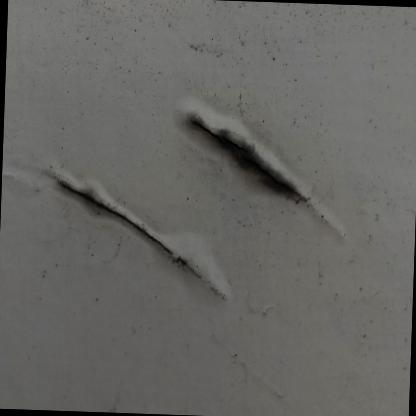Crack: (112, 44, 360, 247), (0, 150, 240, 309)
